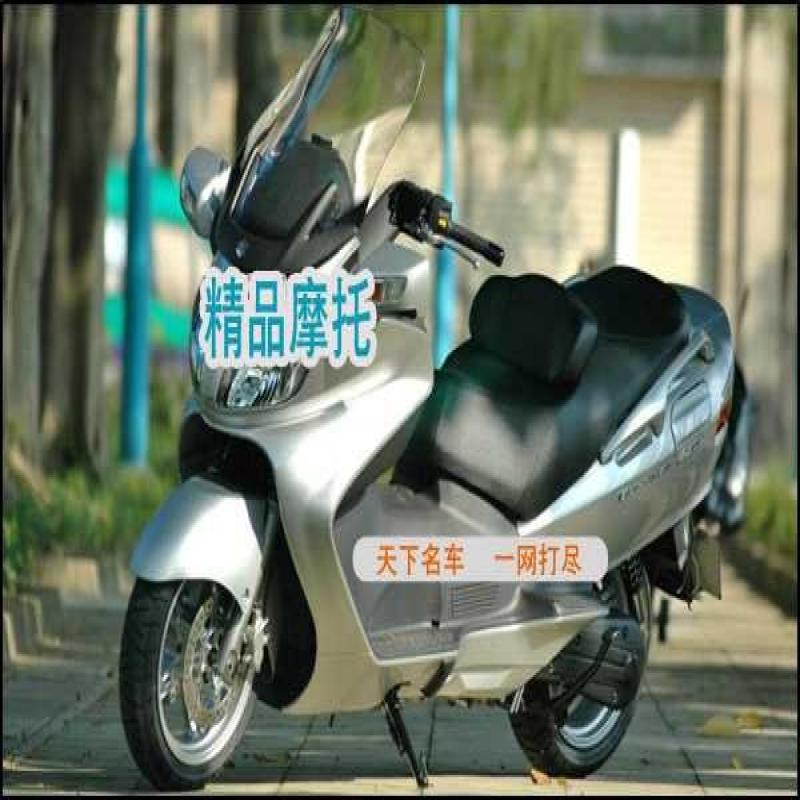bike: (133, 64, 738, 800)
